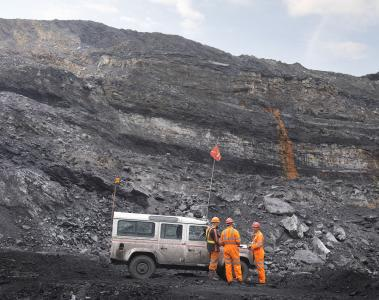helmet: (210, 215, 222, 230), (250, 221, 262, 235), (224, 216, 236, 230)
